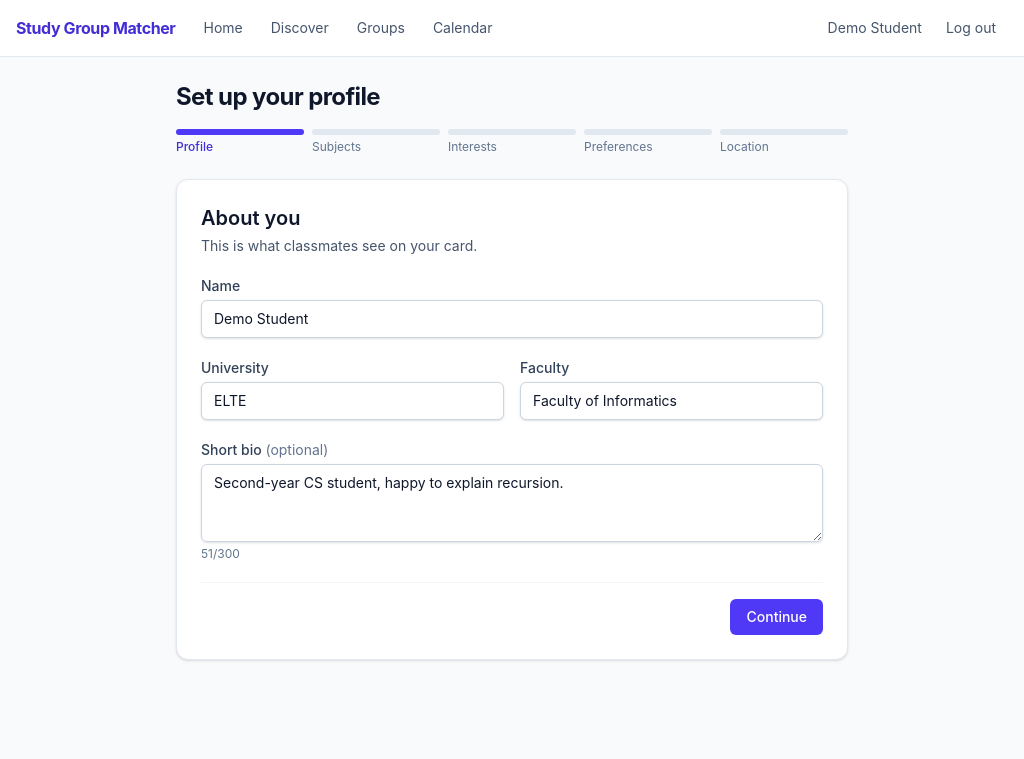
Scenario: Onboarding: profile step › prefills the profile and saves it with PATCH /me
Step 1. Replace the text in the field labelled "Name" with "Demo Renamed" → (512, 319), box [201,300,823,338]
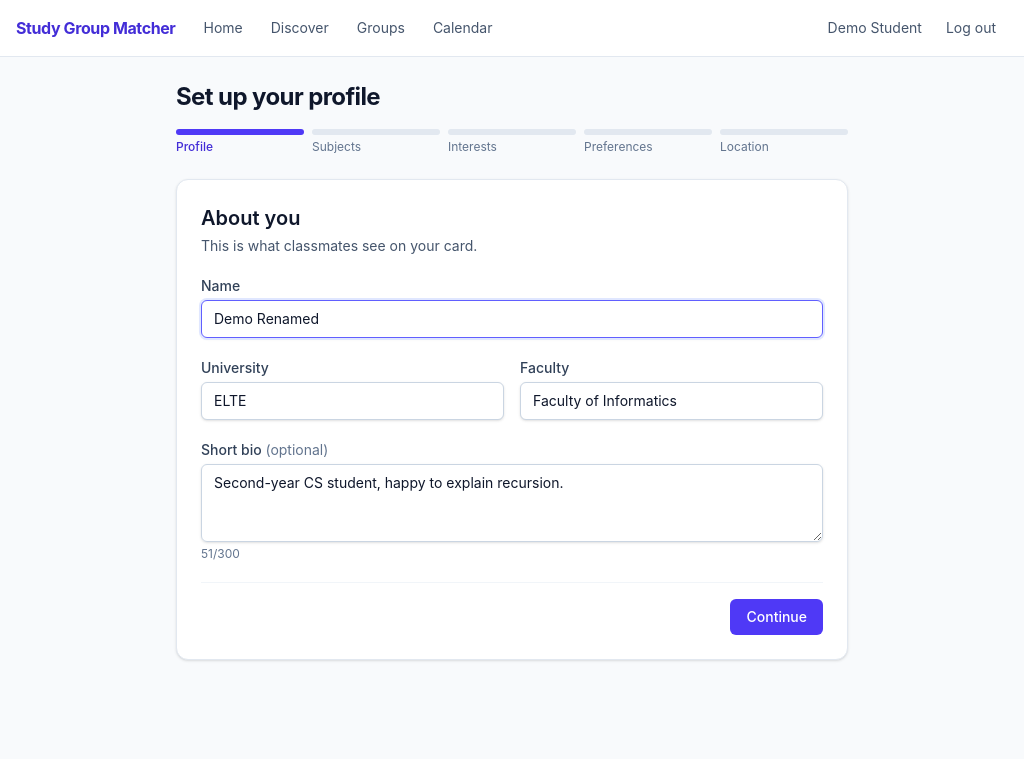
Step 2. Clear the field labelled "Faculty" → (672, 401), box [520,382,823,420]
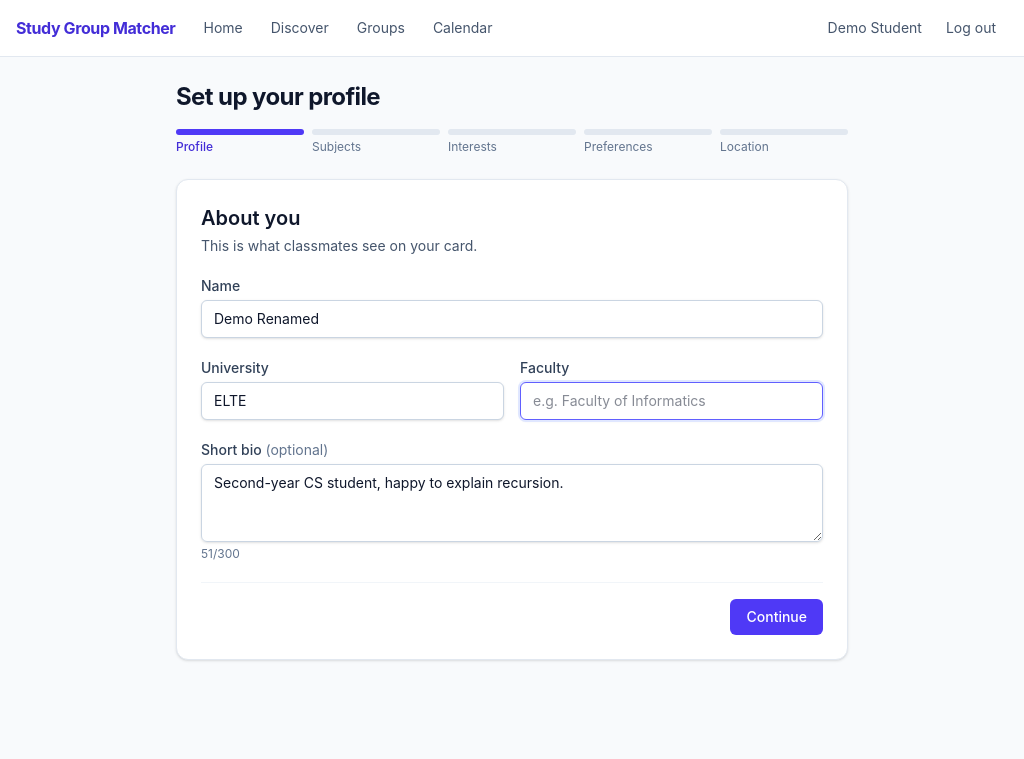
Step 3. Click the button "Continue" → (777, 617), box [730,599,823,635]
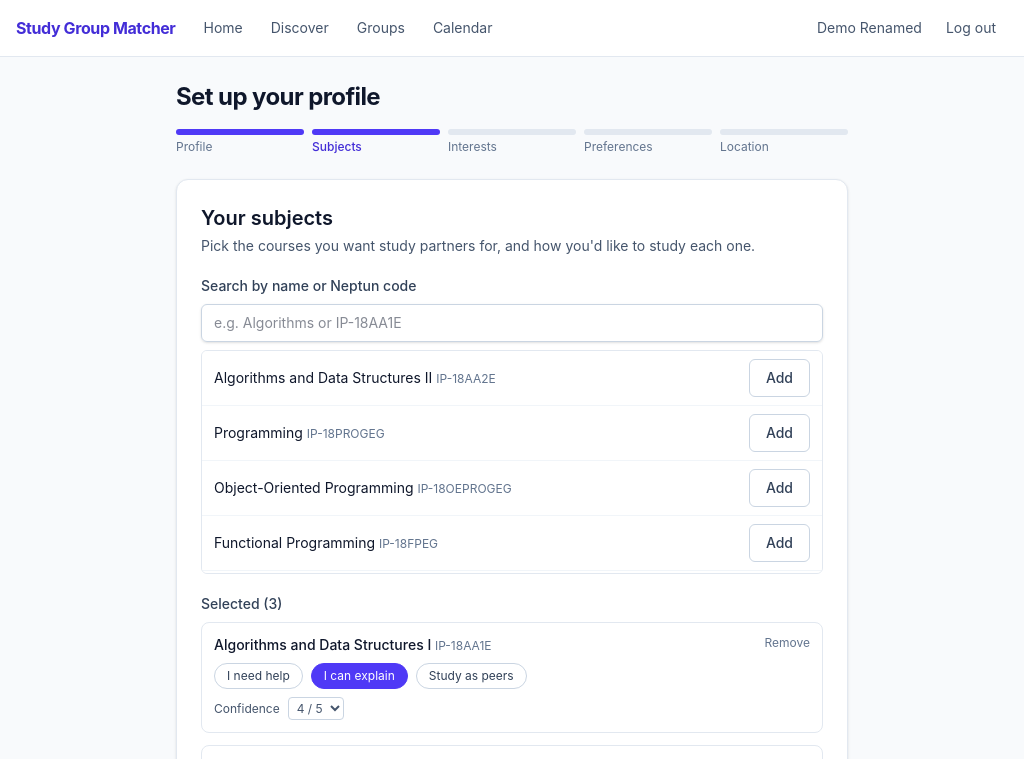
Expected: the heading "Your subjects" is shown, [201,206,333,230]
Expected: the text "Demo Renamed" is shown, [817,18,922,38]
